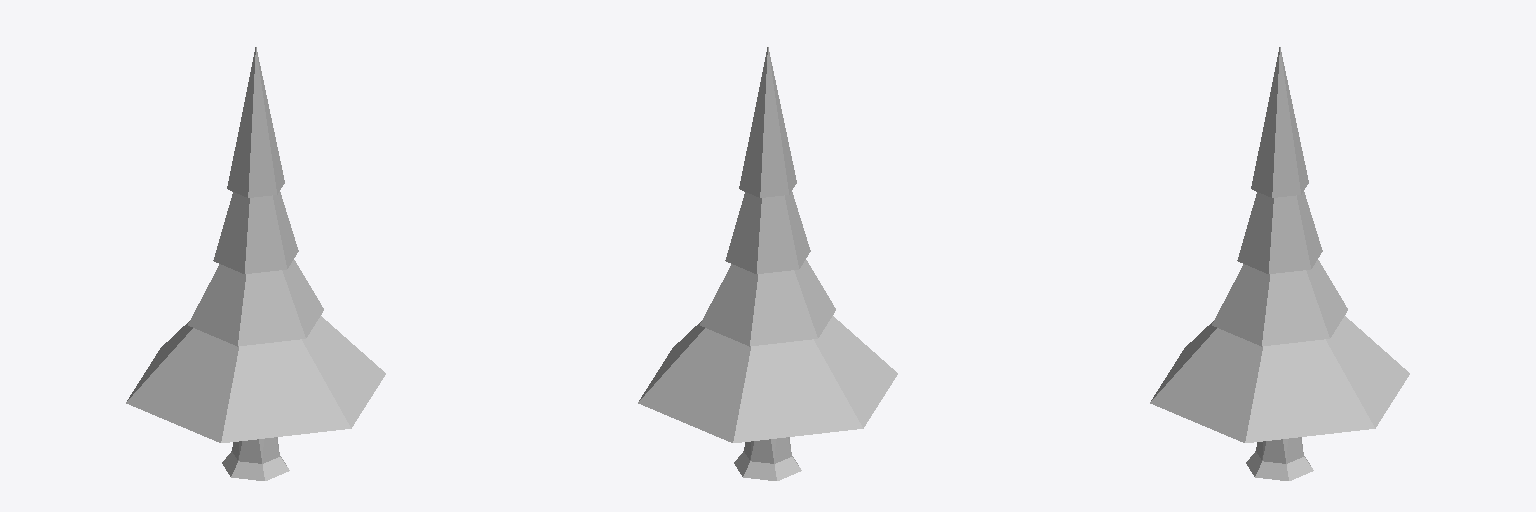
Rendered from tree3.obj.
3 renders of one model, left to right at view 1: azimuth 30°, elevation 25°; view 2: azimuth 150°, elevation 25°; view 3: azimuth 270°, elevation 25°, orthographic.
Visible parts, largest first — view 1: taiga_tree_2; view 2: taiga_tree_2; view 3: taiga_tree_2.
Part boxes in pixels (x1,y1,x2,y2): taiga_tree_2: (126, 47, 385, 480); taiga_tree_2: (638, 47, 897, 480); taiga_tree_2: (1150, 47, 1409, 480).
Bounding box in the file's own units: 4.73 × 8.44 × 4.73.